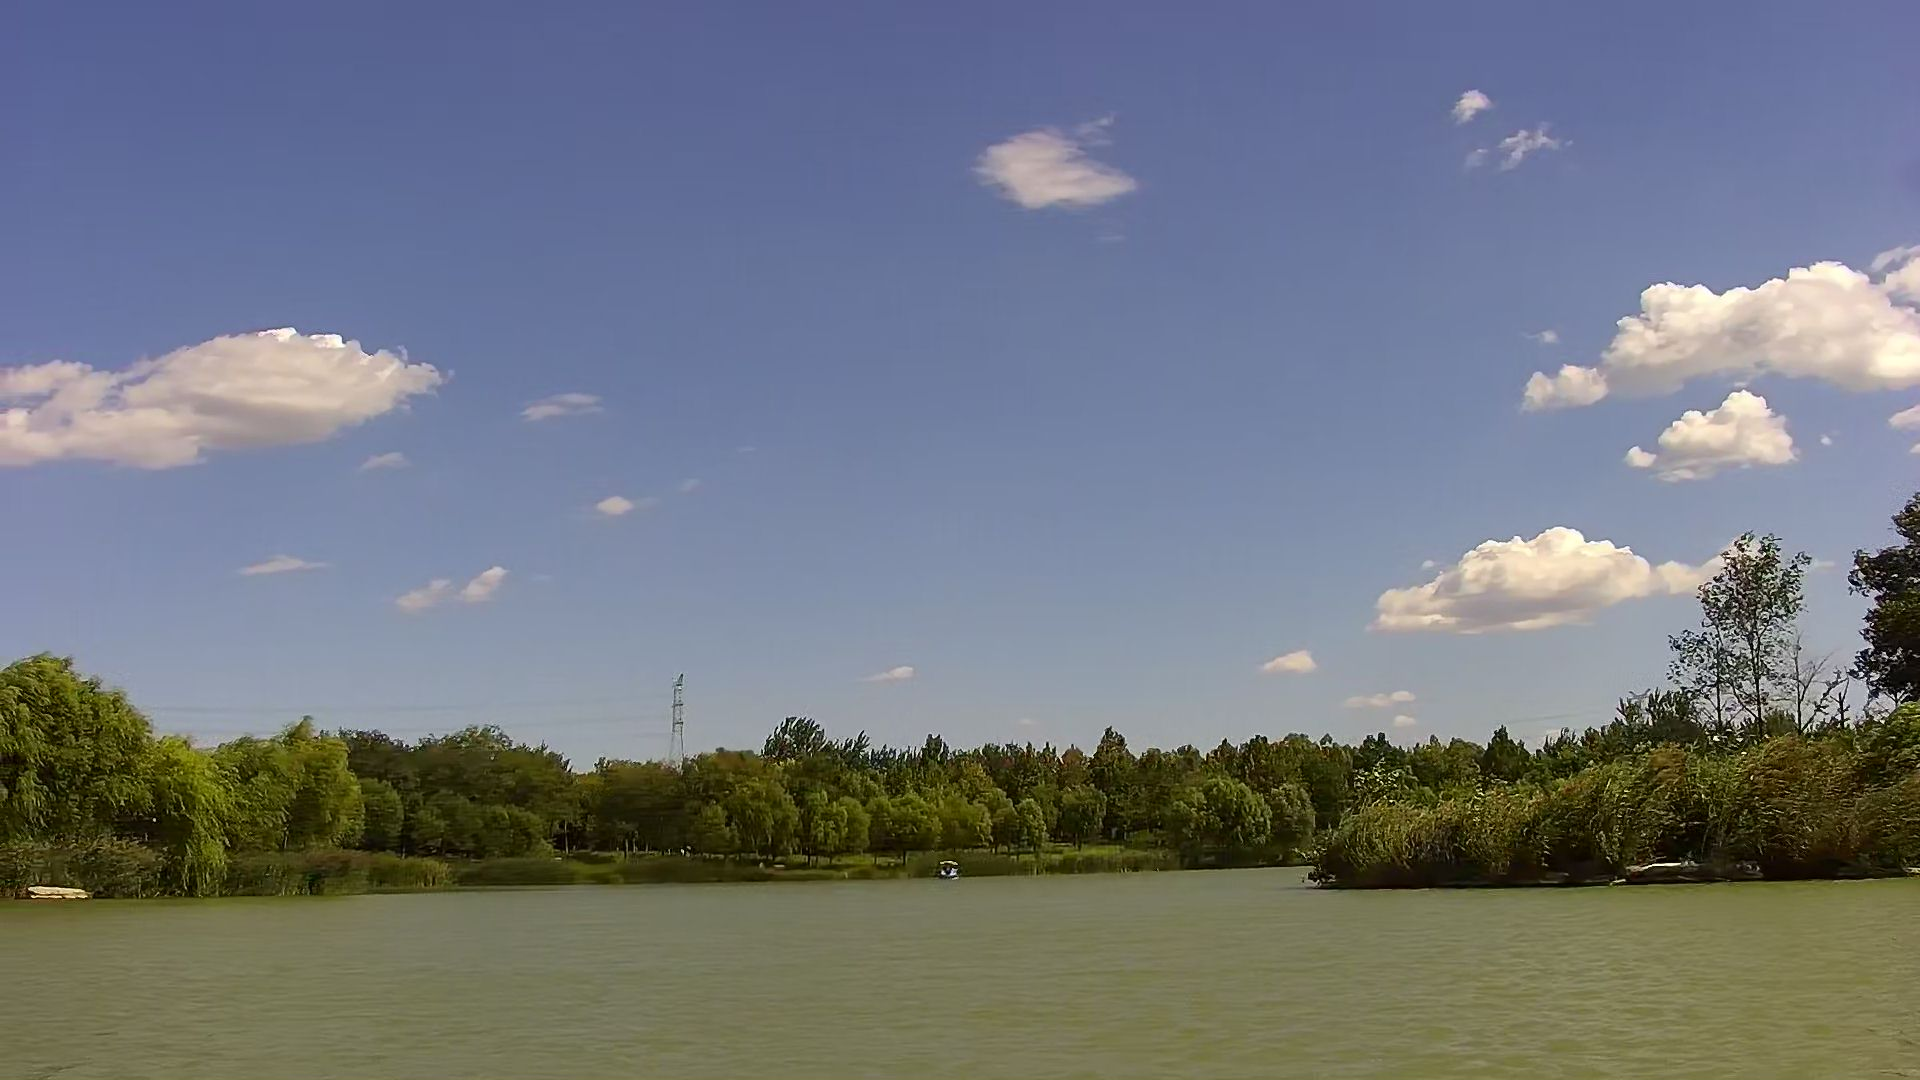boat: (934, 855, 963, 884)
